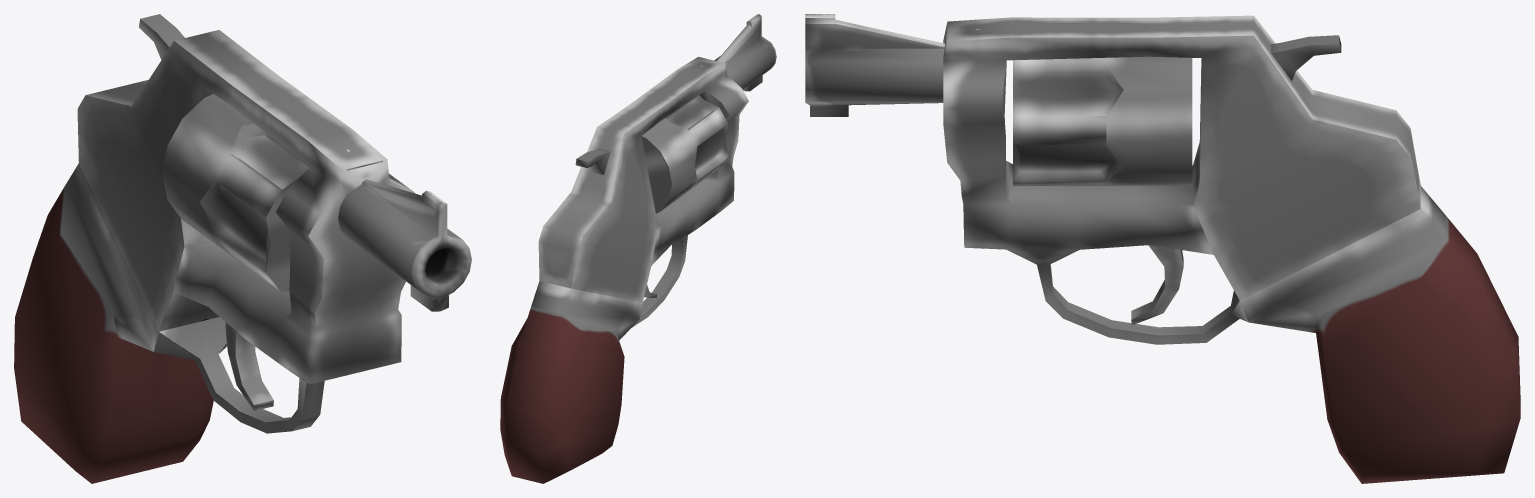
Rendered from Revolver.fbx.
3 views of the same model, side by side, from view 1: azimuth 30°, elevation 25°; view 2: azimuth 150°, elevation 25°; view 3: azimuth 270°, elevation 25° (orthographic). The views are drawn at different scales.
Visible parts, largest first — view 1: Cube; view 2: Cube; view 3: Cube.
Part boxes in pixels (left/top/right/bottom): Cube: left=14, top=14, right=471, bottom=483; Cube: left=500, top=14, right=776, bottom=483; Cube: left=805, top=14, right=1520, bottom=483.
Size of the model in its own units: 3.75 by 12.96 by 18.68.
Materials: 1 (1 with a texture image).
